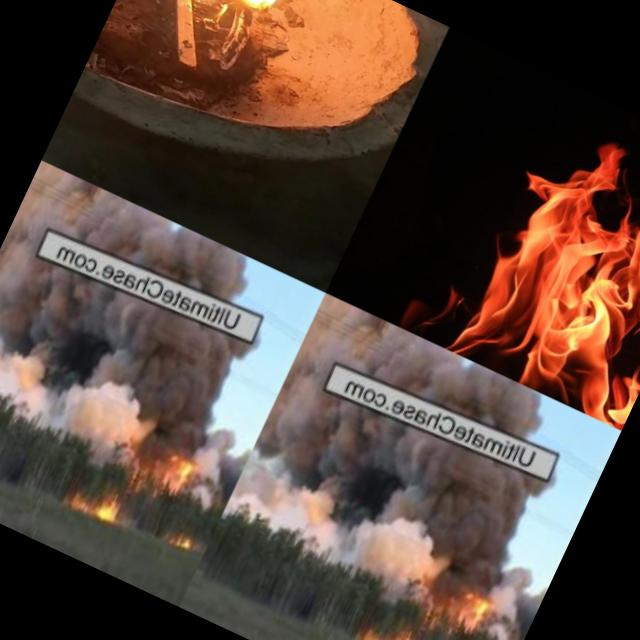fire: (386, 78, 640, 430), (156, 0, 327, 39), (61, 465, 138, 538), (352, 601, 432, 640), (456, 578, 506, 636), (161, 440, 210, 498), (160, 516, 207, 560)
smoke: (222, 378, 518, 626), (0, 245, 223, 487)
